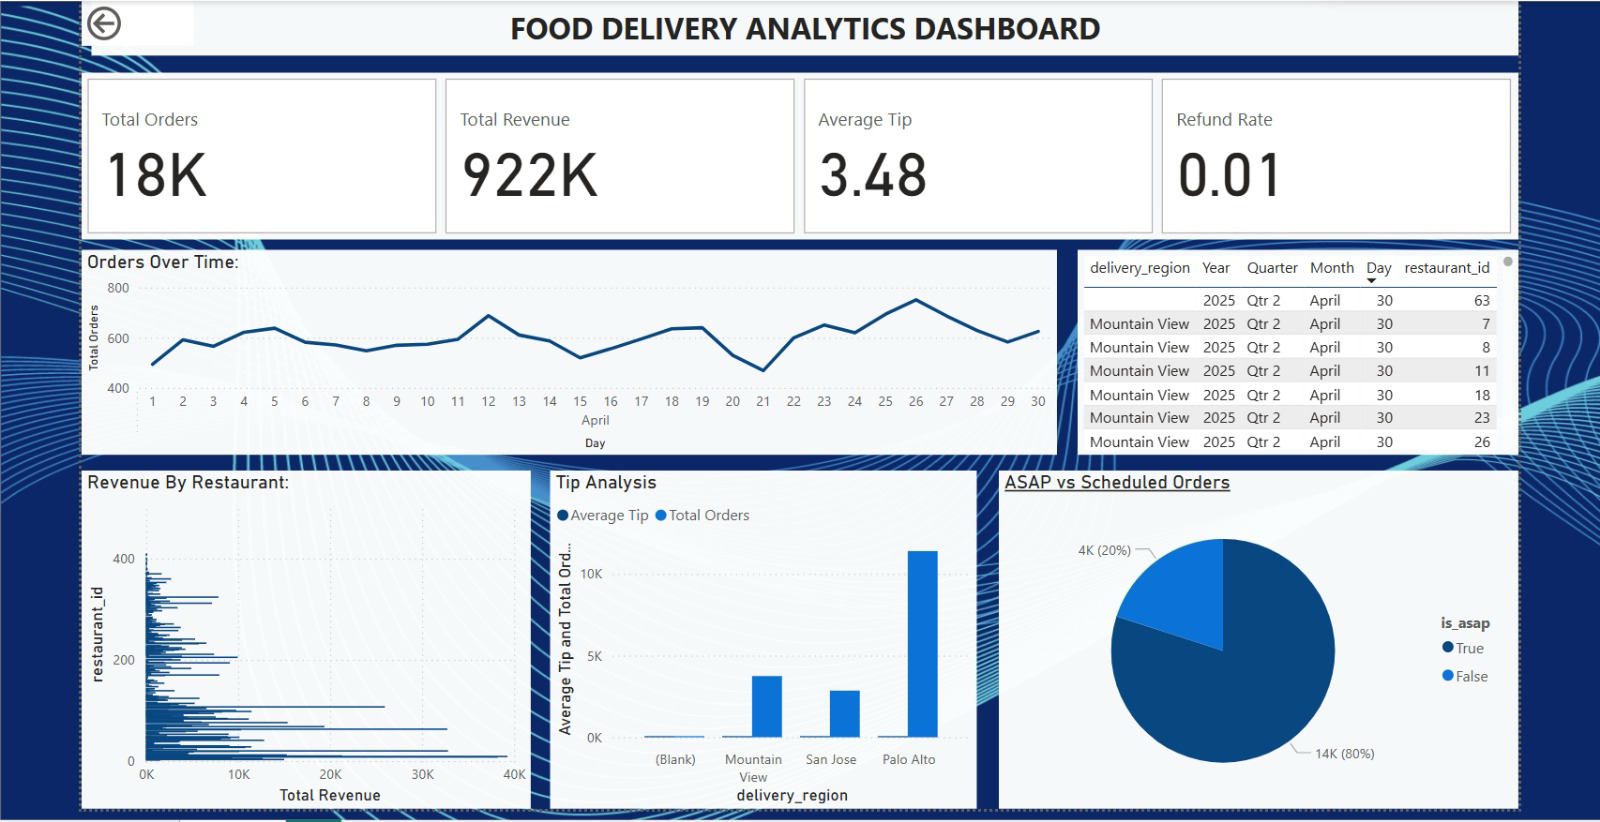

The page's visual inventory and layout, read from the dashboard file:
{"tool":"powerbi","page":{"name":"Page 1","canvas":[1280,720],"ordinal":0},"visuals":[{"type":"textbox","box":[8.6,0,1271.4,48.6],"z":0},{"type":"cardVisual","fields":{"Data":["food_delivery_dw fact_orders.Total Orders","food_delivery_dw fact_orders.Total Revenue","food_delivery_dw fact_orders.Average Tip","food_delivery_dw fact_orders.Refund Rate"]},"box":[0,64.3,1280,148.6],"z":1000},{"type":"lineChart","title":"Orders Over Time:","fields":{"Category":["food_delivery_dw dim_time.delivery_datetime.Variation.Date Hierarchy.Month","food_delivery_dw dim_time.delivery_datetime.Variation.Date Hierarchy.Day"],"Y":["food_delivery_dw fact_orders.Total Orders"]},"box":[0,221.4,868.6,182.9],"z":2000},{"type":"barChart","title":"Revenue By Restaurant:","fields":{"Y":["food_delivery_dw fact_orders.Total Revenue"],"Category":["food_delivery_dw dim_restaurant.restaurant_id"]},"box":[0,418.6,400,301.4],"z":3000},{"type":"pieChart","title":"ASAP vs Scheduled Orders","fields":{"Category":["food_delivery_dw fact_orders.is_asap"],"Y":["food_delivery_dw fact_orders.Total Orders"]},"box":[817.1,418.6,462.9,301.4],"z":4000},{"type":"clusteredColumnChart","title":"Tip Analysis","fields":{"Category":["food_delivery_dw fact_orders.delivery_region"],"Y":["food_delivery_dw fact_orders.Average Tip","food_delivery_dw fact_orders.Total Orders"]},"box":[417.1,418.6,380,301.4],"z":5000},{"type":"tableEx","fields":{"Values":["food_delivery_dw fact_orders.delivery_region","food_delivery_dw dim_time.delivery_datetime.Variation.Date Hierarchy.Year","food_delivery_dw dim_time.delivery_datetime.Variation.Date Hierarchy.Quarter","food_delivery_dw dim_time.delivery_datetime.Variation.Date Hierarchy.Month","food_delivery_dw dim_time.delivery_datetime.Variation.Date Hierarchy.Day","food_delivery_dw dim_restaurant.restaurant_id"]},"box":[887.1,221.4,392.9,182.9],"z":6000},{"type":"actionButton","box":[0,0,100,40],"z":7000}]}

Visuals, with their boxes in screenshot pixels (x1, y1, x2, y2):
textbox: [85, 0, 1514, 50]
cardVisual - food_delivery_dw fact_orders.Total Orders x food_delivery_dw fact_orders.Total Revenue: [75, 68, 1514, 235]
"Orders Over Time:" lineChart: [75, 245, 1052, 450]
"Revenue By Restaurant:" barChart: [75, 466, 525, 805]
"ASAP vs Scheduled Orders" pieChart: [994, 466, 1514, 805]
"Tip Analysis" clusteredColumnChart: [544, 466, 971, 805]
tableEx - food_delivery_dw fact_orders.delivery_region x food_delivery_dw dim_time.delivery_datetime.Variation.Date Hierarchy.Year: [1072, 245, 1514, 450]
actionButton: [75, 0, 187, 41]
